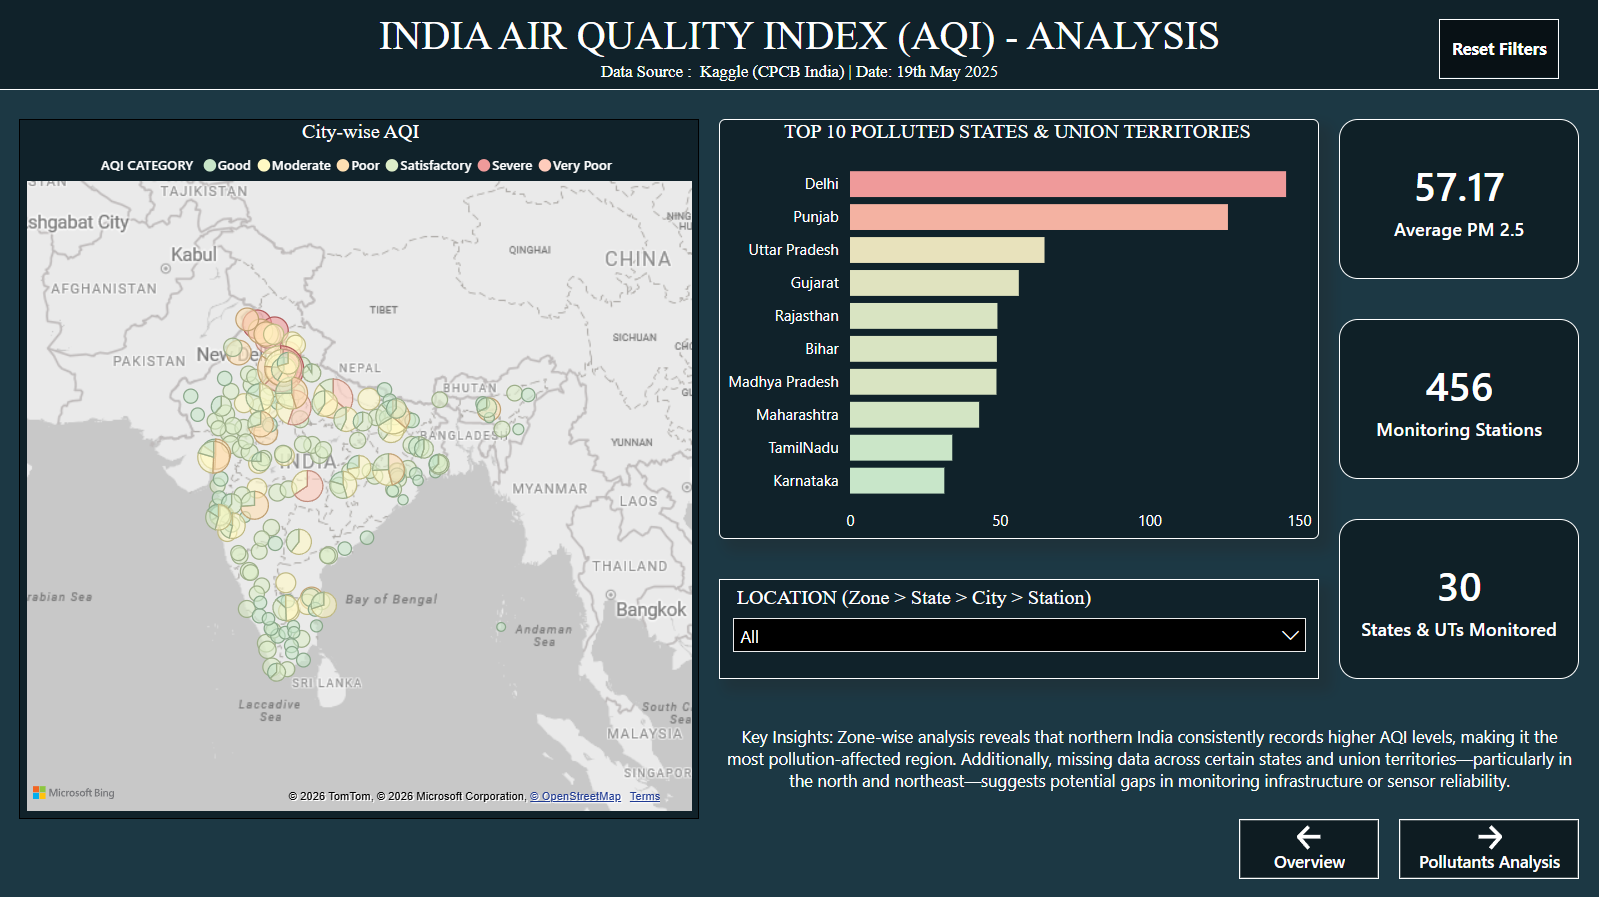

Layout of this report page (visuals, bound fields, positions):
{"tool":"powerbi","page":{"name":"STATE ANALYSIS","canvas":[1280,720],"ordinal":1},"visuals":[{"type":"textbox","box":[0,0,1280,72.5],"z":0},{"type":"map","title":"City-wise AQI","fields":{"Category":["aqi2.city"],"Series":["aqi2.AQI CATEGORY"],"Y":["Avg(aqi2.latitude)"],"X":["Avg(aqi2.longitude)"],"Size":["Avg(aqi2.pollutant_avg)"]},"box":[16,96,544,560],"z":1000},{"type":"clusteredBarChart","title":"TOP 10 POLLUTED STATES & UNION TERRITORIES","fields":{"Category":["aqi2.state"],"Y":["Avg(aqi2.pollutant_avg)"]},"box":[576,96,480,336],"z":2000},{"type":"slicer","fields":{"Values":["Zonal Analysis.ZONES","Zonal Analysis.STATES AND UT","aqi2.city","aqi2.station"]},"box":[576,464,480,80],"z":3000},{"type":"actionButton","box":[992,656,112,48],"z":4000},{"type":"actionButton","box":[1120,656,144,48],"z":5000},{"type":"actionButton","box":[1152,16,96,48],"z":6000},{"type":"card","fields":{"Values":["Avg(aqi2.pollutant_avg)"]},"box":[1072,96,192,128],"z":7000},{"type":"card","fields":{"Values":["Count(aqi2.station)"]},"box":[1072,256,192,128],"z":8000},{"type":"textbox","box":[576,576,688,80],"z":9000},{"type":"card","title":"States Monitored","fields":{"Values":["Count(aqi2.state)"]},"box":[1072,416,192,128],"z":10000}]}

Visuals, with their boxes in screenshot pixels (x1, y1, x2, y2), scaled from the page's 1280x720 canvas onto the 1599x897 screenshot:
textbox: 0,0,1598,90
"City-wise AQI" map: 20,120,700,817
"TOP 10 POLLUTED STATES & UNION TERRITORIES" clusteredBarChart: 720,120,1319,538
slicer - Zonal Analysis.ZONES x Zonal Analysis.STATES AND UT: 720,578,1319,678
actionButton: 1239,817,1379,877
actionButton: 1399,817,1579,877
actionButton: 1439,20,1559,80
card - Avg(aqi2.pollutant_avg): 1339,120,1579,279
card - Count(aqi2.station): 1339,319,1579,478
textbox: 720,718,1579,817
"States Monitored" card: 1339,518,1579,678
